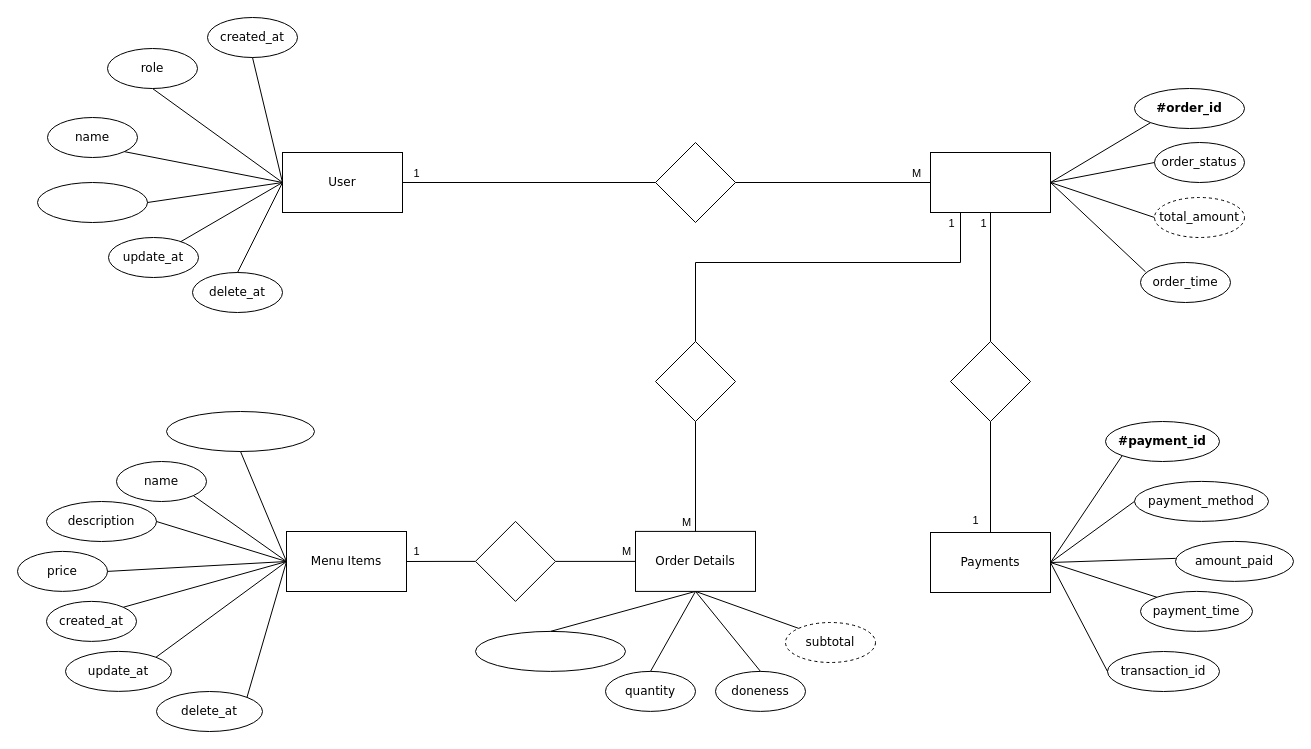
Some shapes in this 1311 by 749 pixel diagram are drawn without their labels. The box of each missing label's shape, as (x1, y1, x2, y2) in pixels:
#item_id: (166, 410, 314, 452)
#order_details_id: (474, 630, 626, 671)
#user_id: (36, 182, 148, 222)
contains: (654, 340, 736, 422)
handle: (654, 142, 736, 222)
has: (950, 340, 1030, 422)
Order: (930, 152, 1050, 212)
part of: (474, 520, 556, 601)
